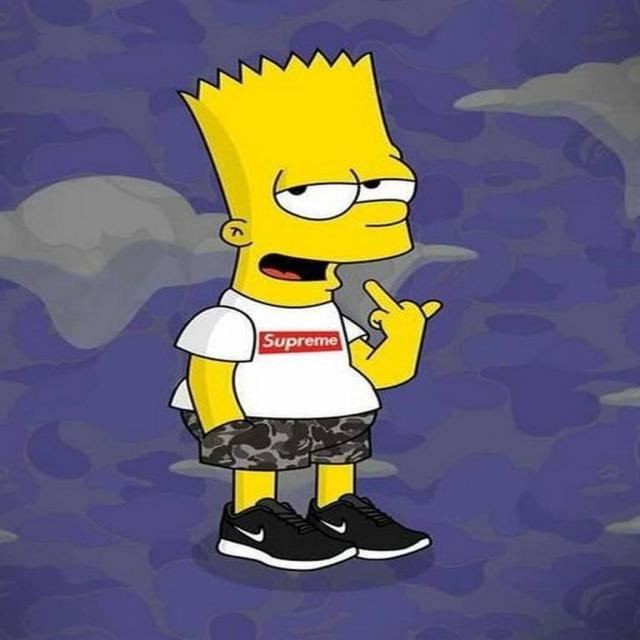Bart Simpson: (174, 47, 420, 312)
